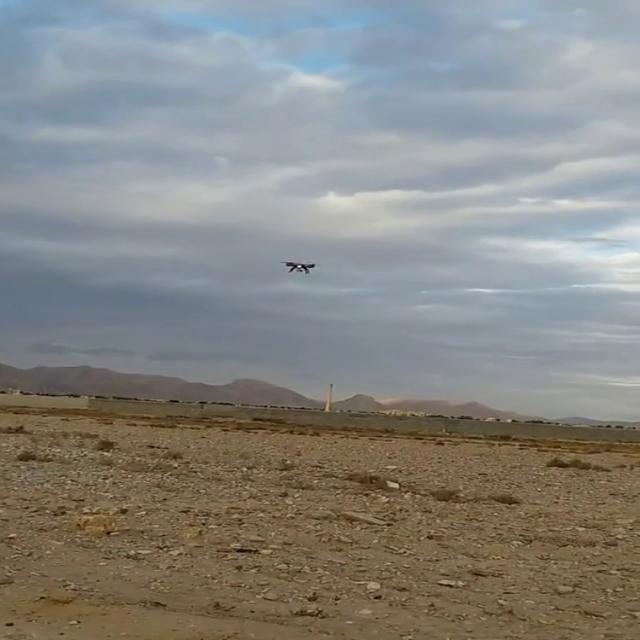drone: (275, 253, 323, 281)
